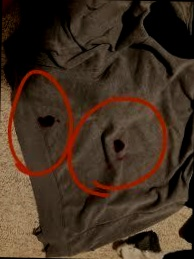ink: (38, 115, 56, 128), (115, 139, 126, 154)
